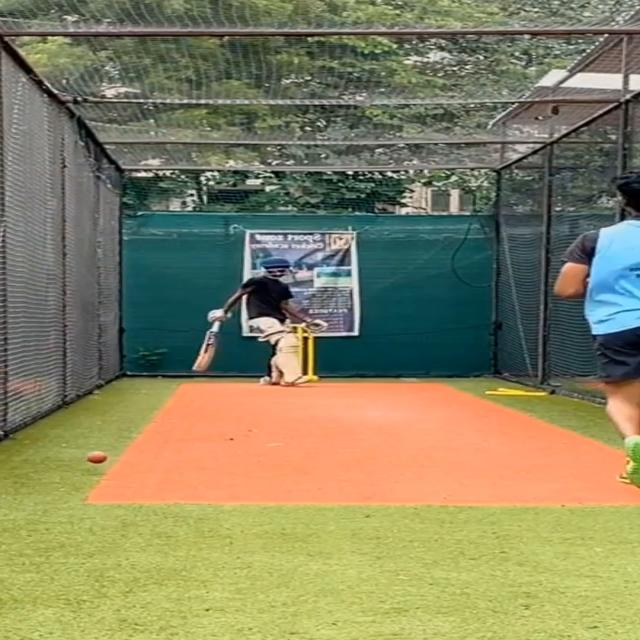ball: (85, 451, 108, 464)
